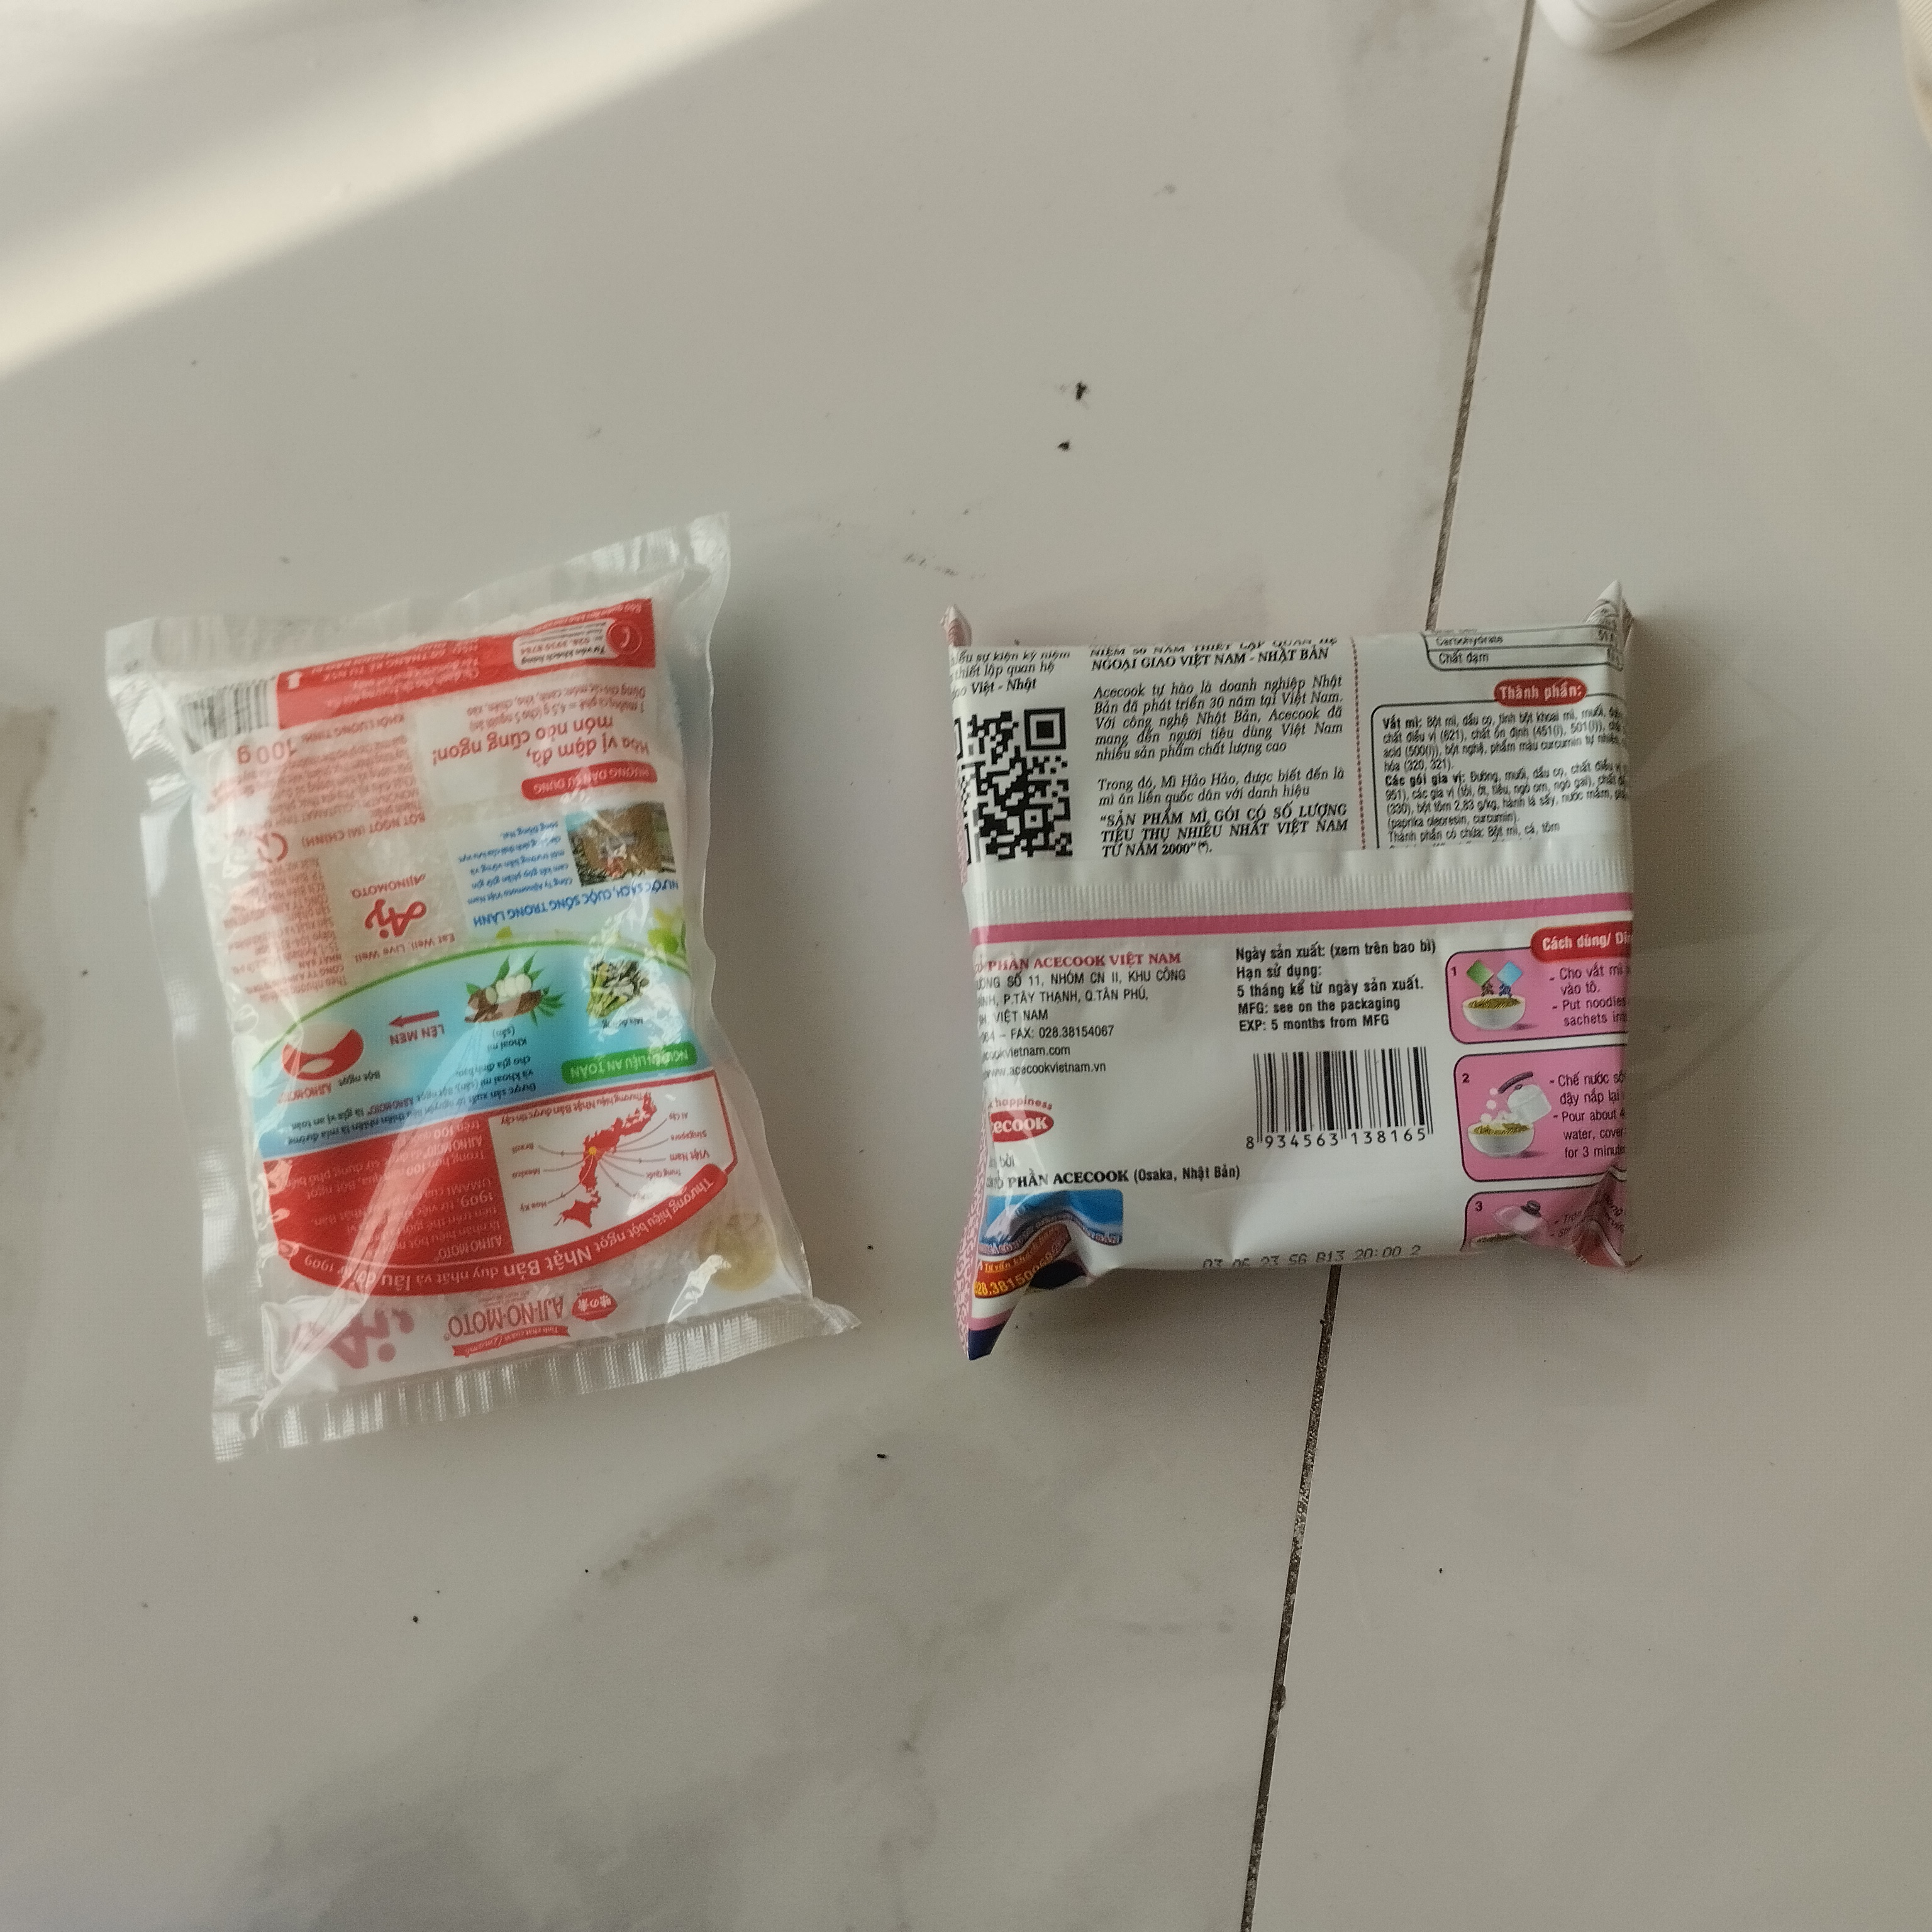3mien: (915, 568, 1714, 1385)
Ajinomoto: (85, 543, 867, 1451)
